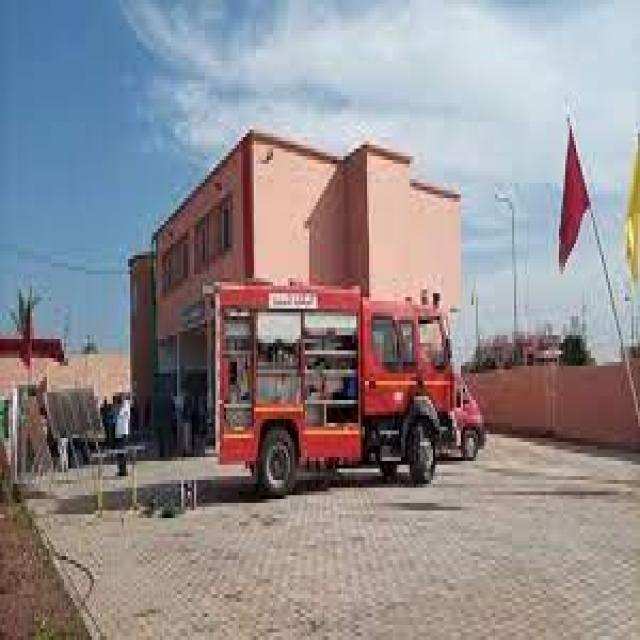pompier: (214, 275, 456, 493)
